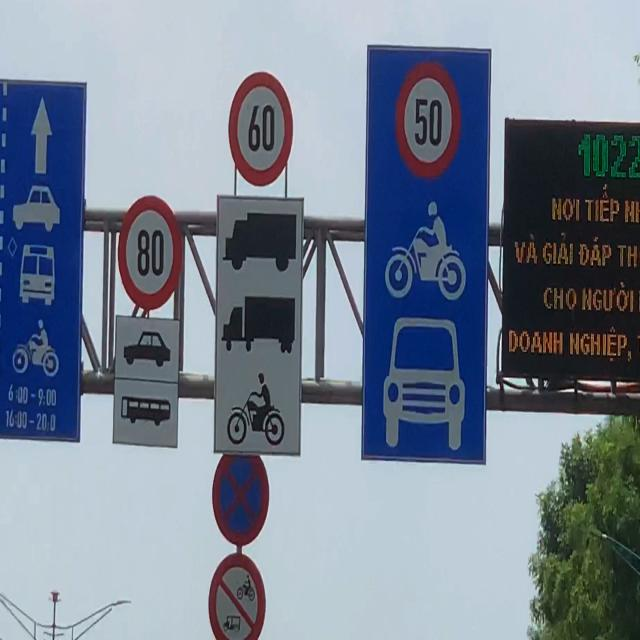Cam con lai: (208, 555, 266, 640)
Cam dung va do: (212, 444, 270, 546)
Toc do toi da: (395, 62, 461, 180), (228, 71, 294, 187), (117, 195, 183, 311)
